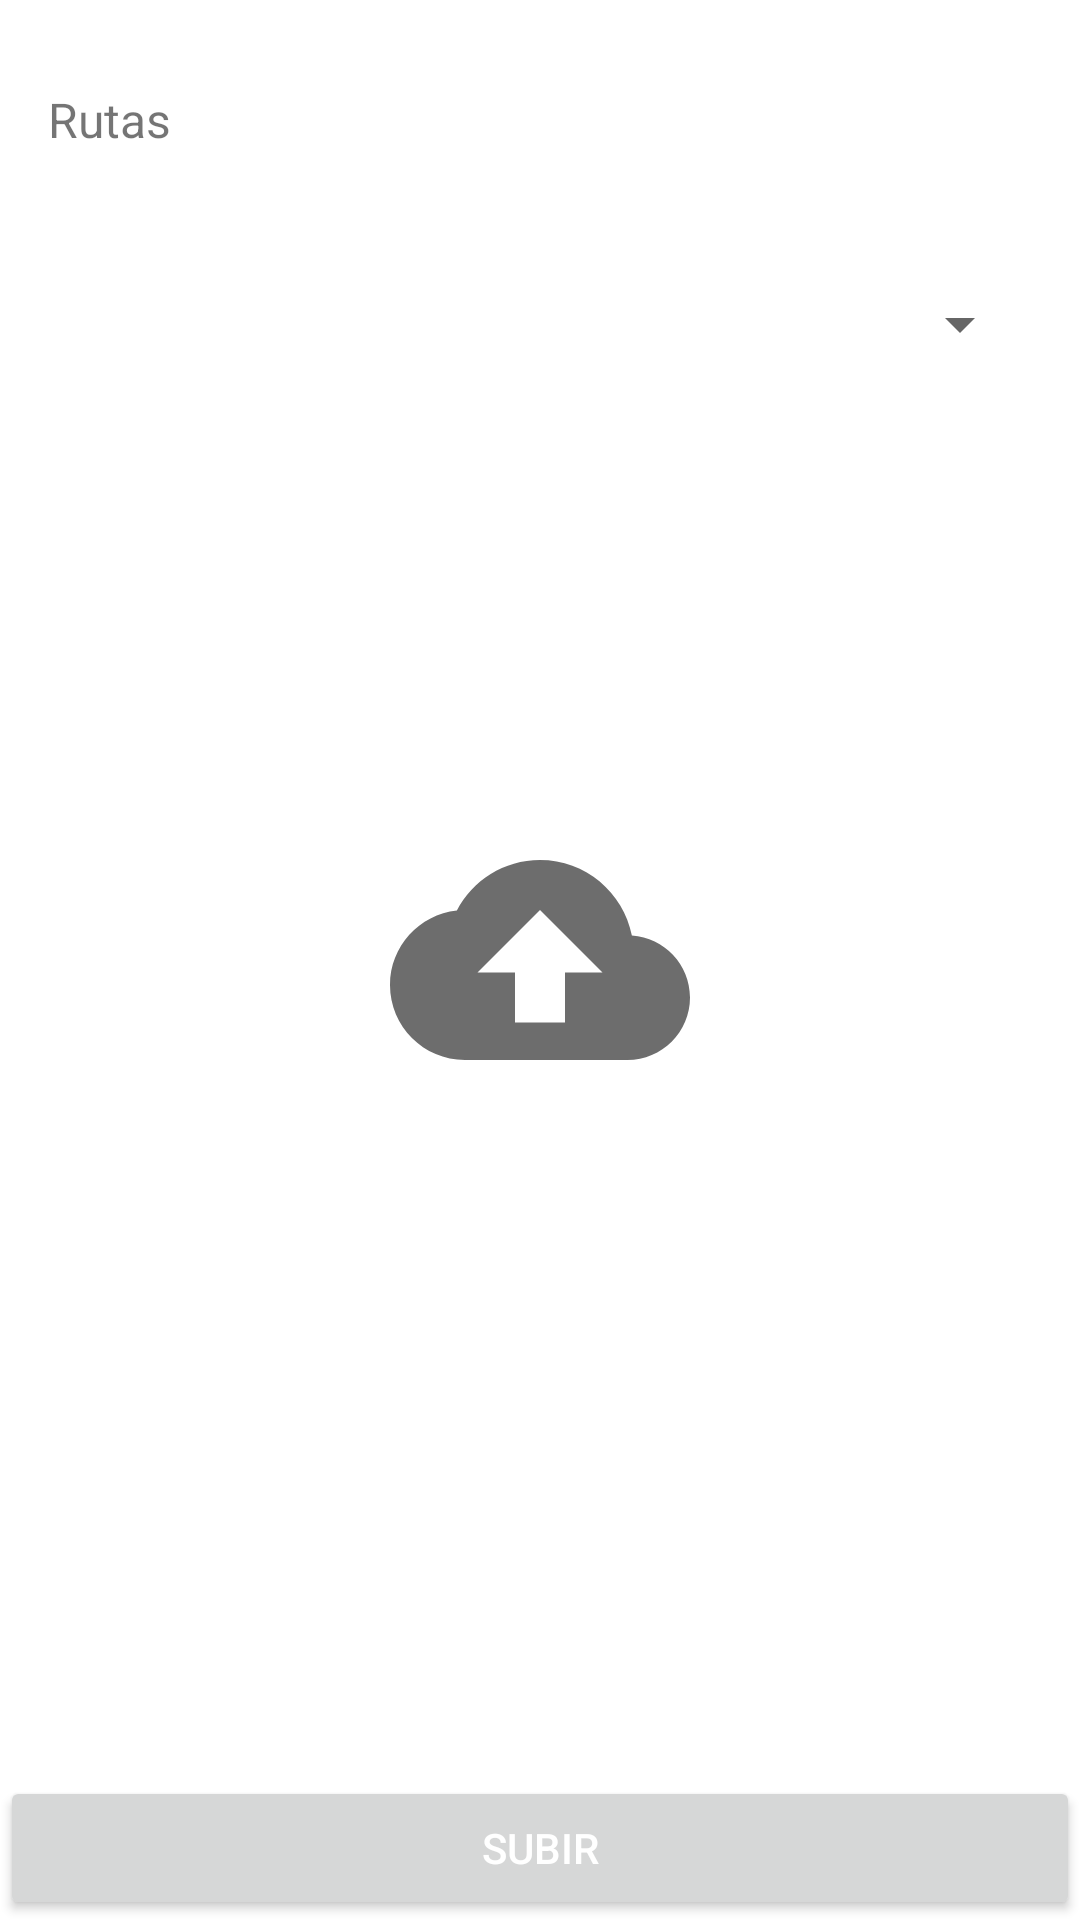

Icons on this 1080 × 1920 Android screen, each with the point to tap as (x,y):
upload: (540,960)
